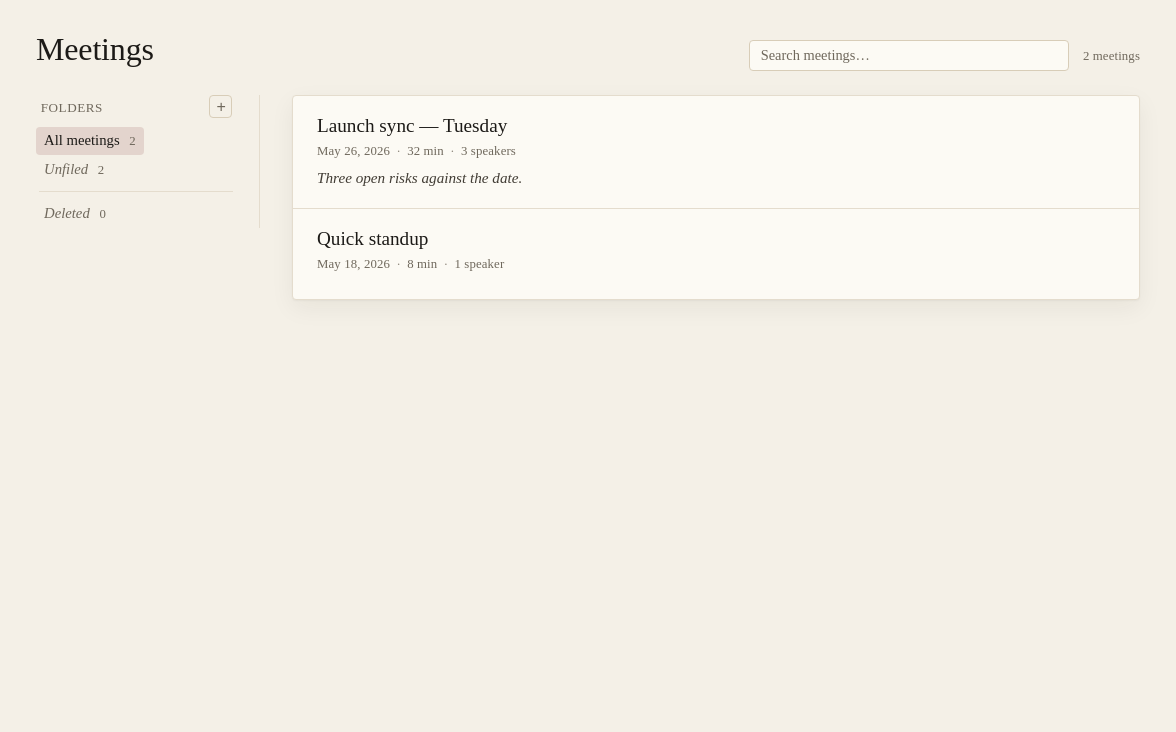
Test: MeetingList row context menu (#0034 meeting-list slice) › dismisses on outside click
Check: the button "Launch sync — Tuesday" is shown, box top-left (317, 115), bottom-right (507, 137)
Step 1. Right-click the list item "Quick standup" → (411, 249), box top-left (317, 228), bottom-right (504, 270)
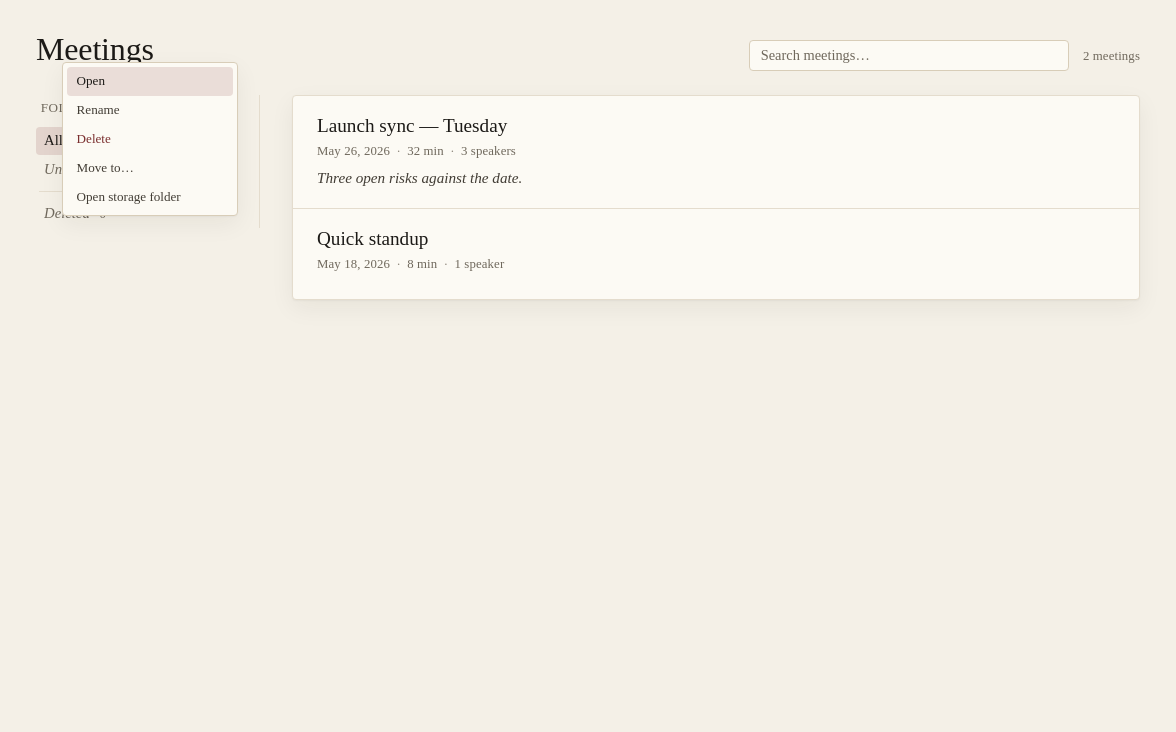
Check: the menu is shown, box top-left (62, 62), bottom-right (238, 216)
Step 2. Click the button named "Close menu" → (588, 372), box top-left (12, 12), bottom-right (1164, 731)
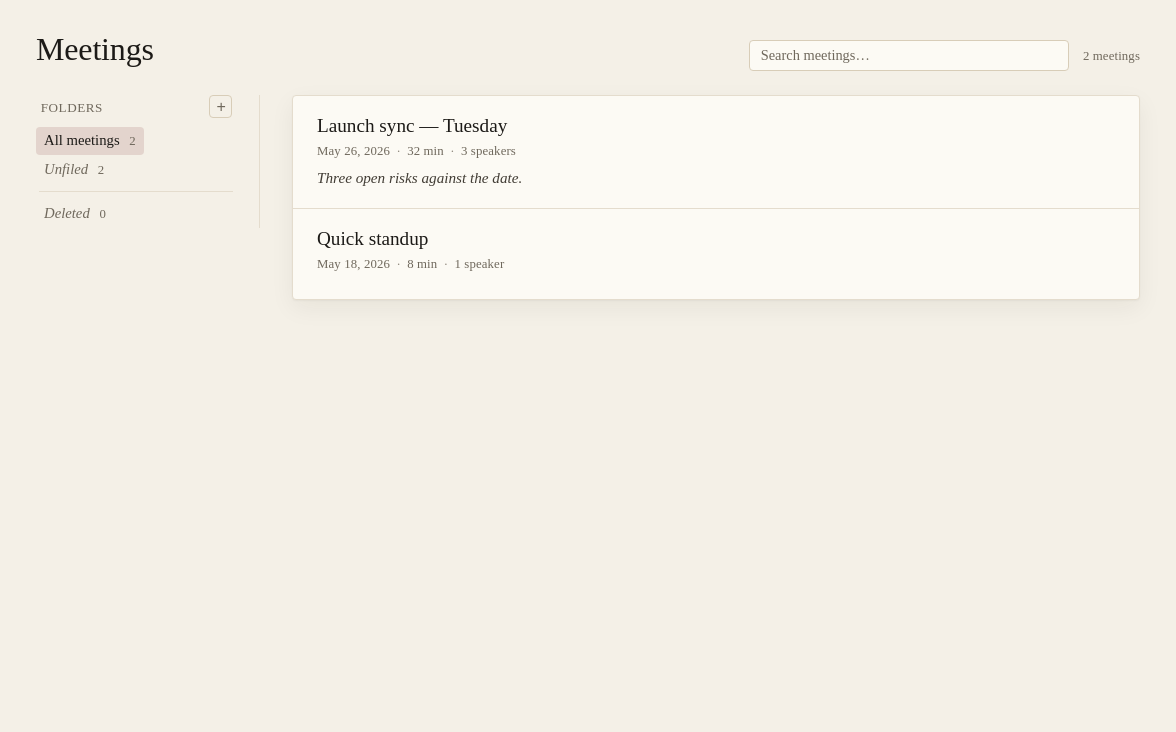
Check: the menu is gone
